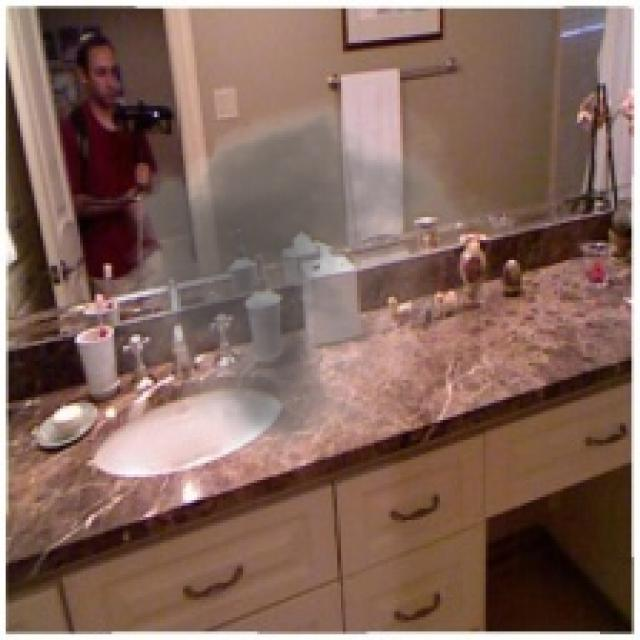smoke: (89, 83, 514, 474)
